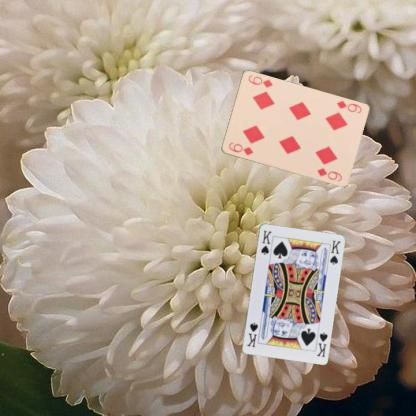6d: (334, 98, 364, 114), (226, 140, 254, 156)
Ks: (258, 228, 273, 256), (314, 329, 328, 358)
